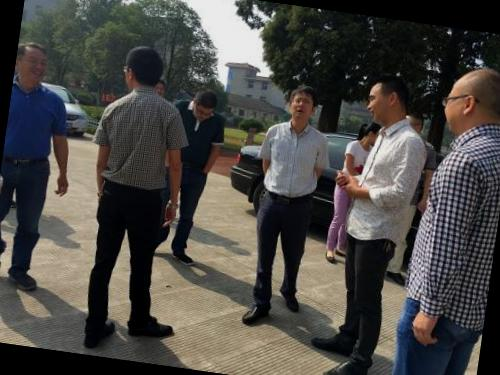no_helmet: (436, 56, 500, 143), (361, 70, 416, 128), (119, 42, 168, 96), (13, 38, 55, 90), (283, 80, 321, 130), (188, 83, 222, 120), (401, 104, 427, 146), (360, 118, 386, 152)
